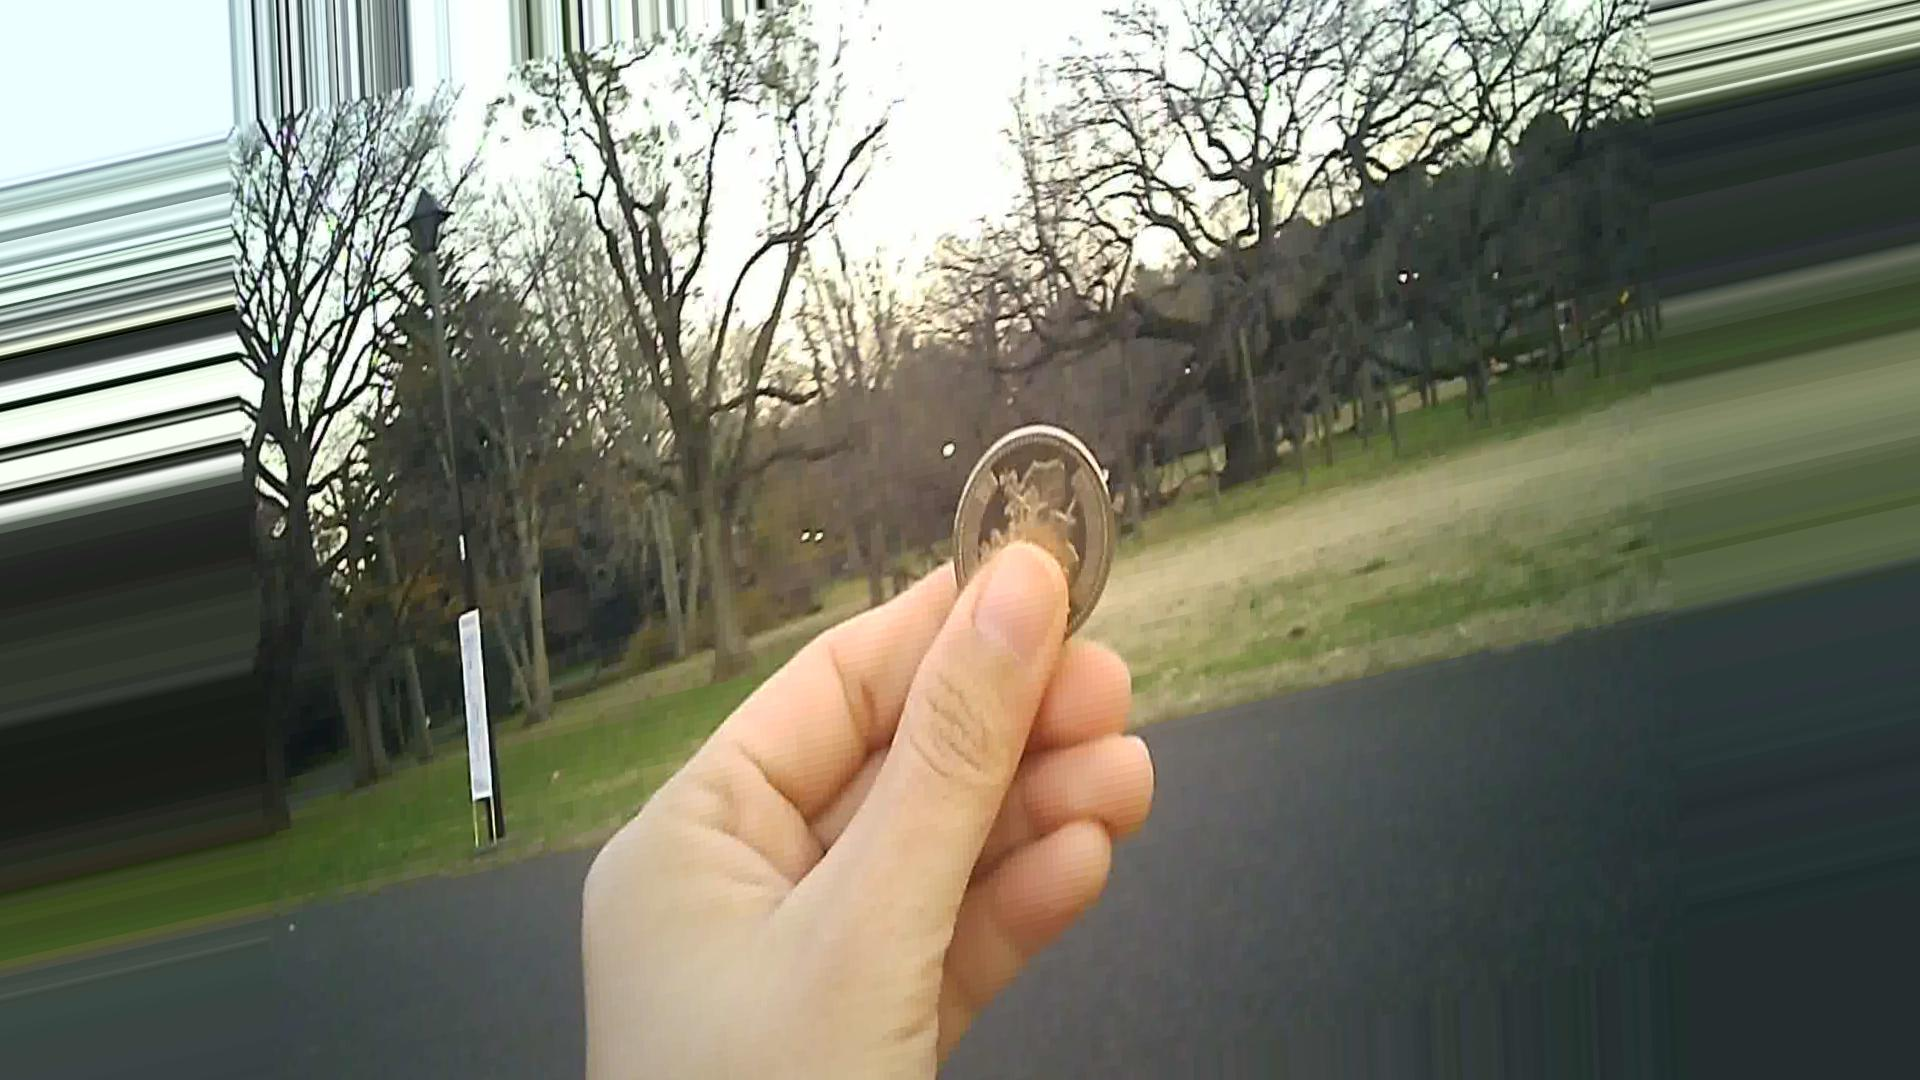500 Yen: (945, 425, 1114, 640)
